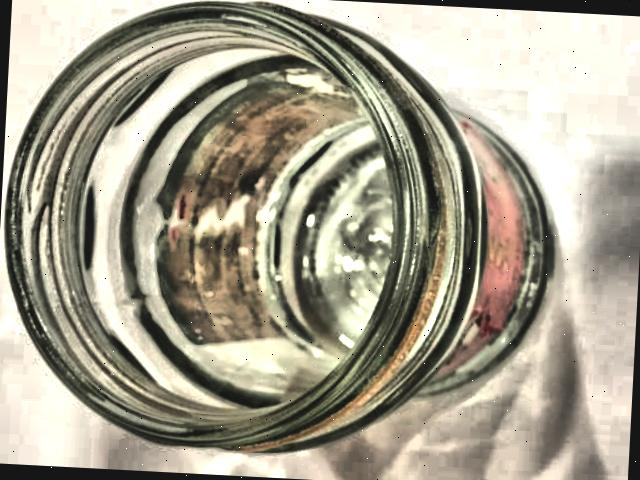Almennt: (0, 0, 565, 472)
